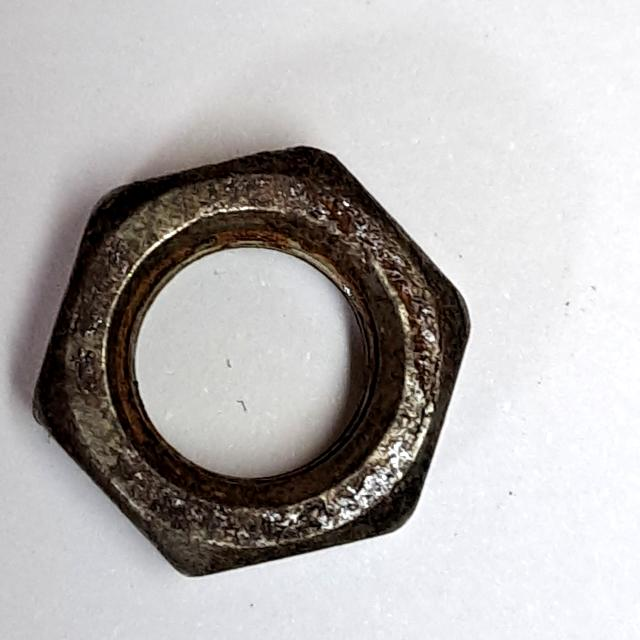Rust: (14, 132, 485, 592)
